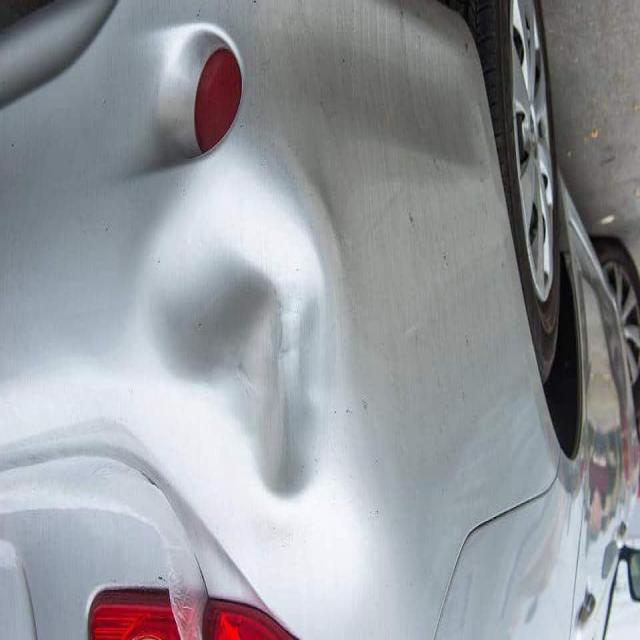dent: (152, 148, 340, 519)
